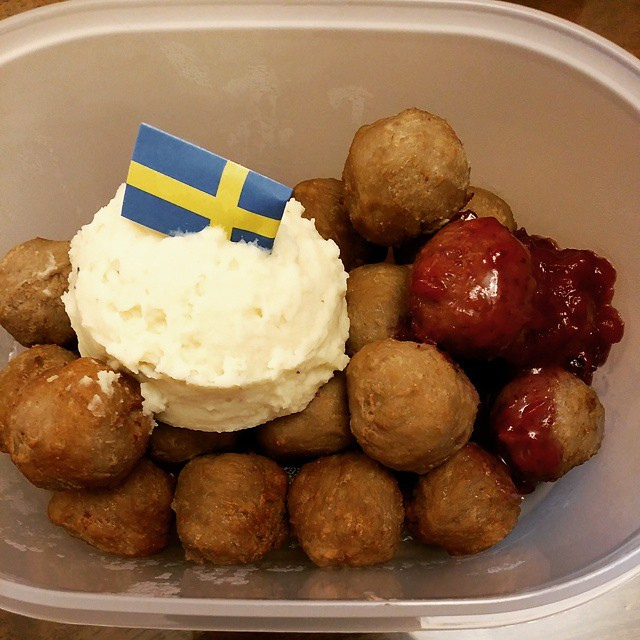meatballs: (5, 109, 589, 552)
